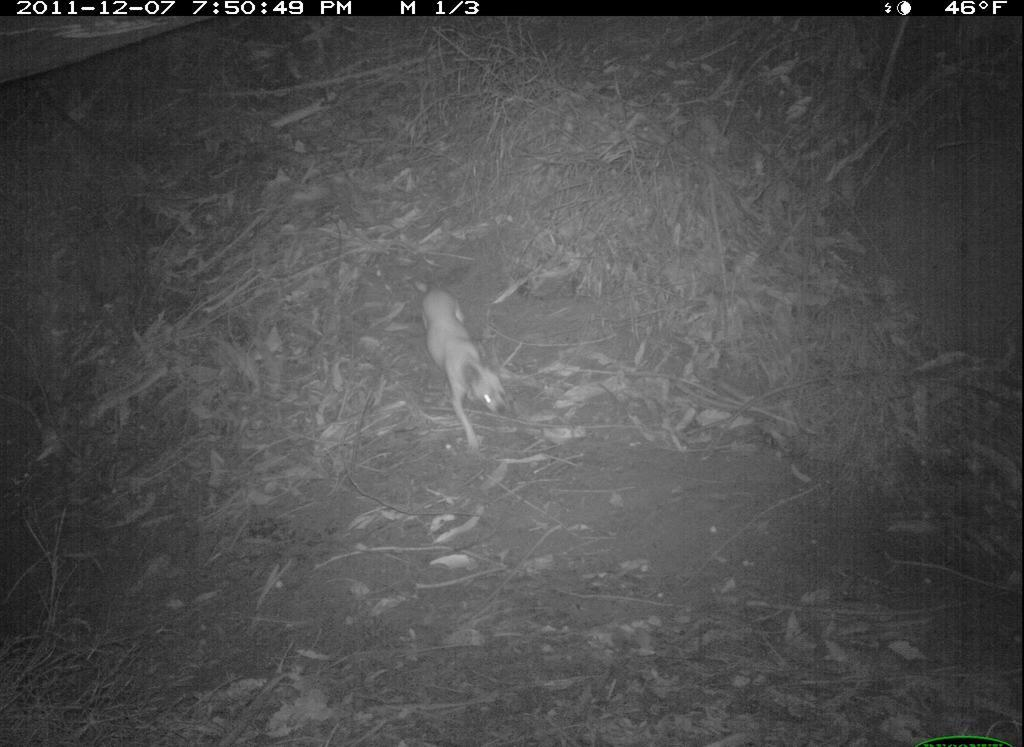dog: (408, 280, 523, 466)
